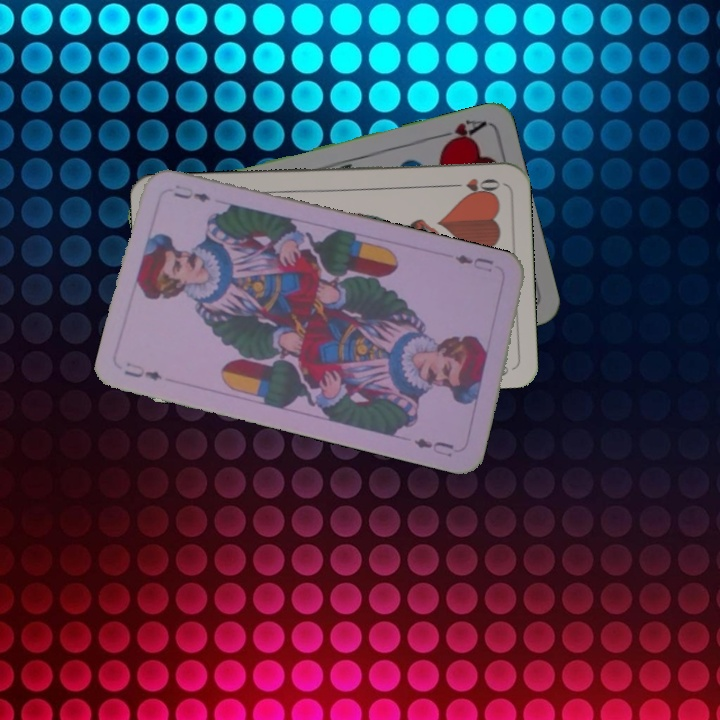EU: (120, 358, 165, 384), (450, 250, 496, 275)
HA: (430, 115, 488, 149)
HO: (445, 174, 503, 195)
